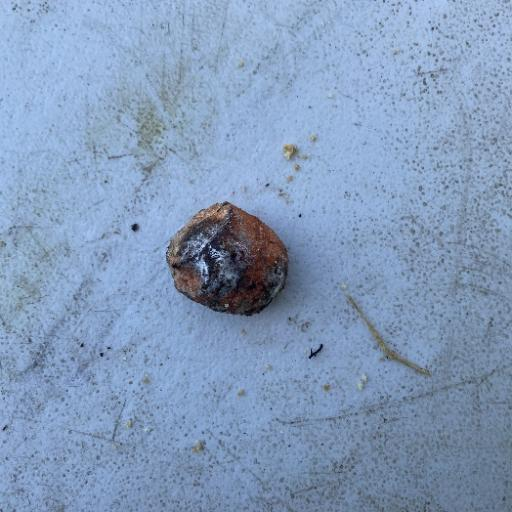Waste: (164, 199, 289, 317)
